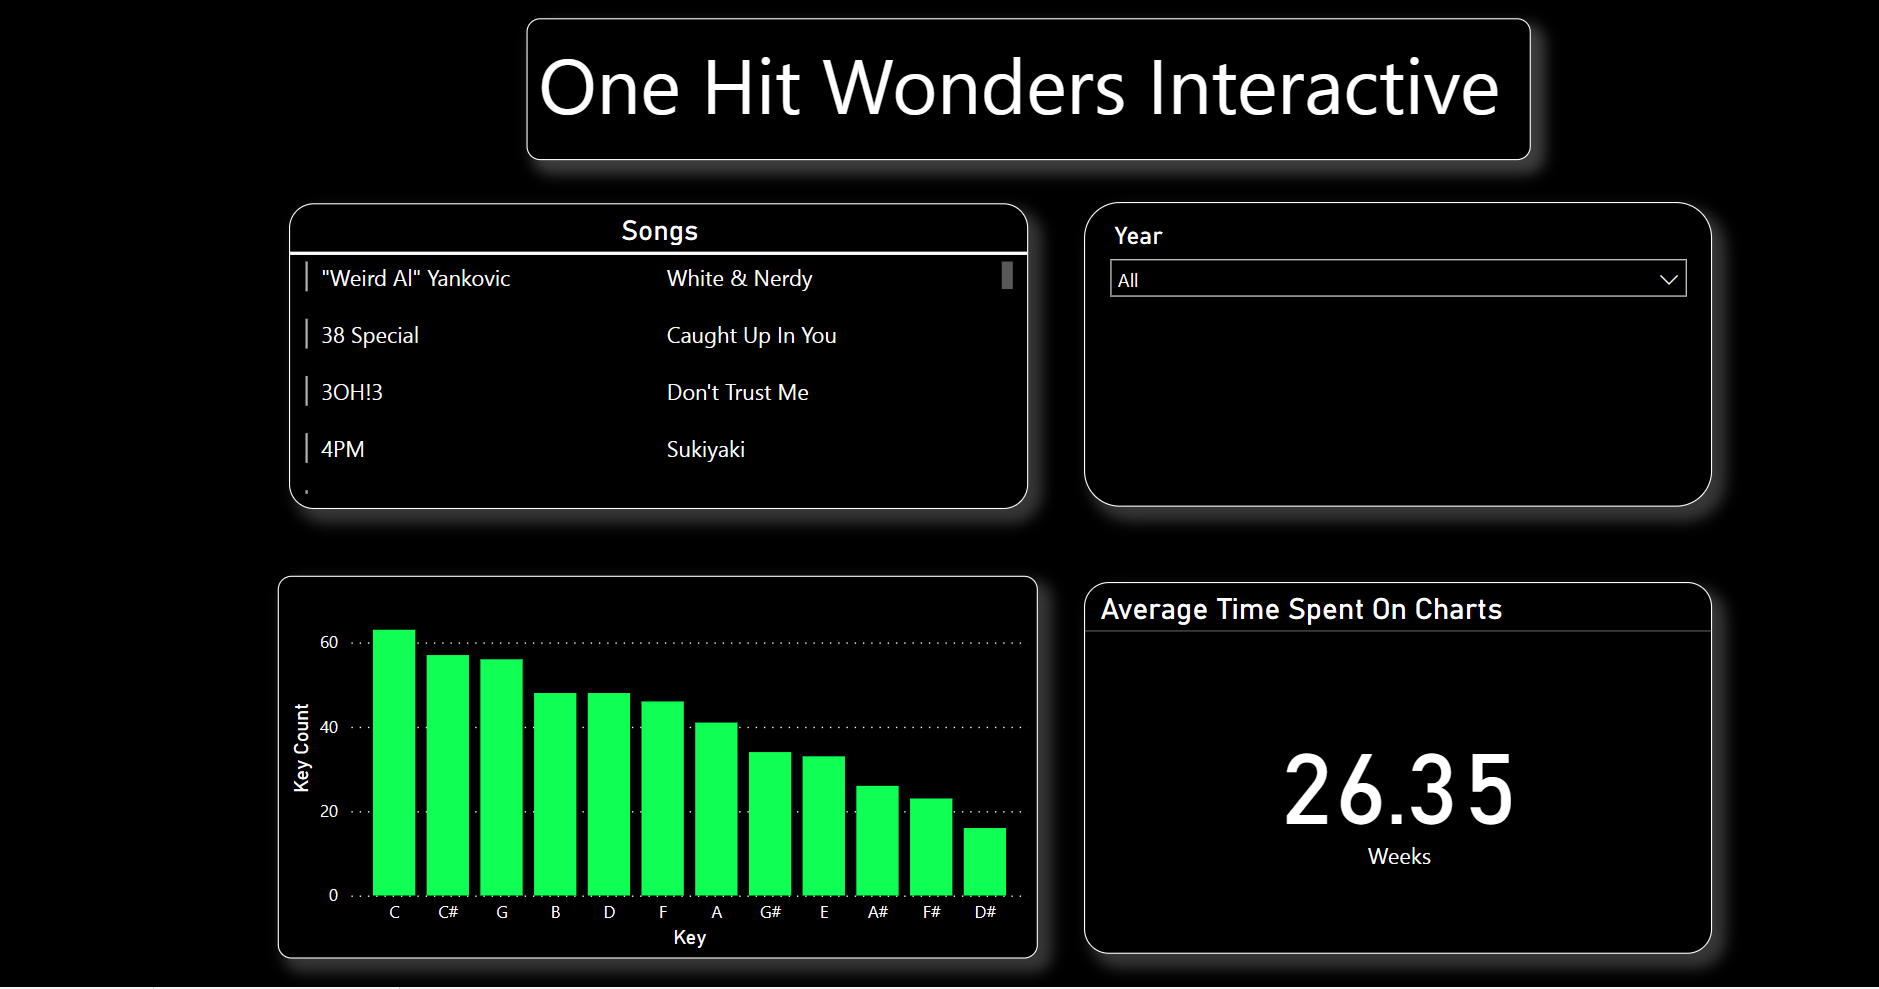

The dashboard page shown, as its layout file describes it:
{"tool":"powerbi","page":{"name":"Interactive","canvas":[1280,720],"ordinal":5},"visuals":[{"type":"slicer","fields":{"Values":["full_merge_cleaned.release_year"]},"box":[55.6,8.4,426.6,200.6],"z":0},{"type":"multiRowCard","title":"Songs","fields":{"Values":["full_merge_cleaned.artist","full_merge_cleaned.song"]},"box":[799.2,10.1,480.5,200.6],"z":1000},{"type":"columnChart","fields":{"Category":["full_merge_cleaned.key"],"Y":["full_merge_cleaned.key"]},"box":[269,397.9,769.8,303.3],"z":2000},{"type":"card","title":"Average Time Spent On Charts","fields":{"Values":["full_merge_cleaned.weeks-on-board"]},"box":[482.2,209.1,317,170.3],"z":3000}]}

Visuals, with their boxes on the page's 1280x720 design canvas (x1, y1, x2, y2). These are canvas units, not pixel positions in the 1879x989 screenshot, which may show the page scaled, cropped or inside an application window:
slicer - full_merge_cleaned.release_year: <bbox>56, 8, 482, 209</bbox>
"Songs" multiRowCard: <bbox>799, 10, 1280, 211</bbox>
columnChart - full_merge_cleaned.key x full_merge_cleaned.key: <bbox>269, 398, 1039, 701</bbox>
"Average Time Spent On Charts" card: <bbox>482, 209, 799, 379</bbox>
